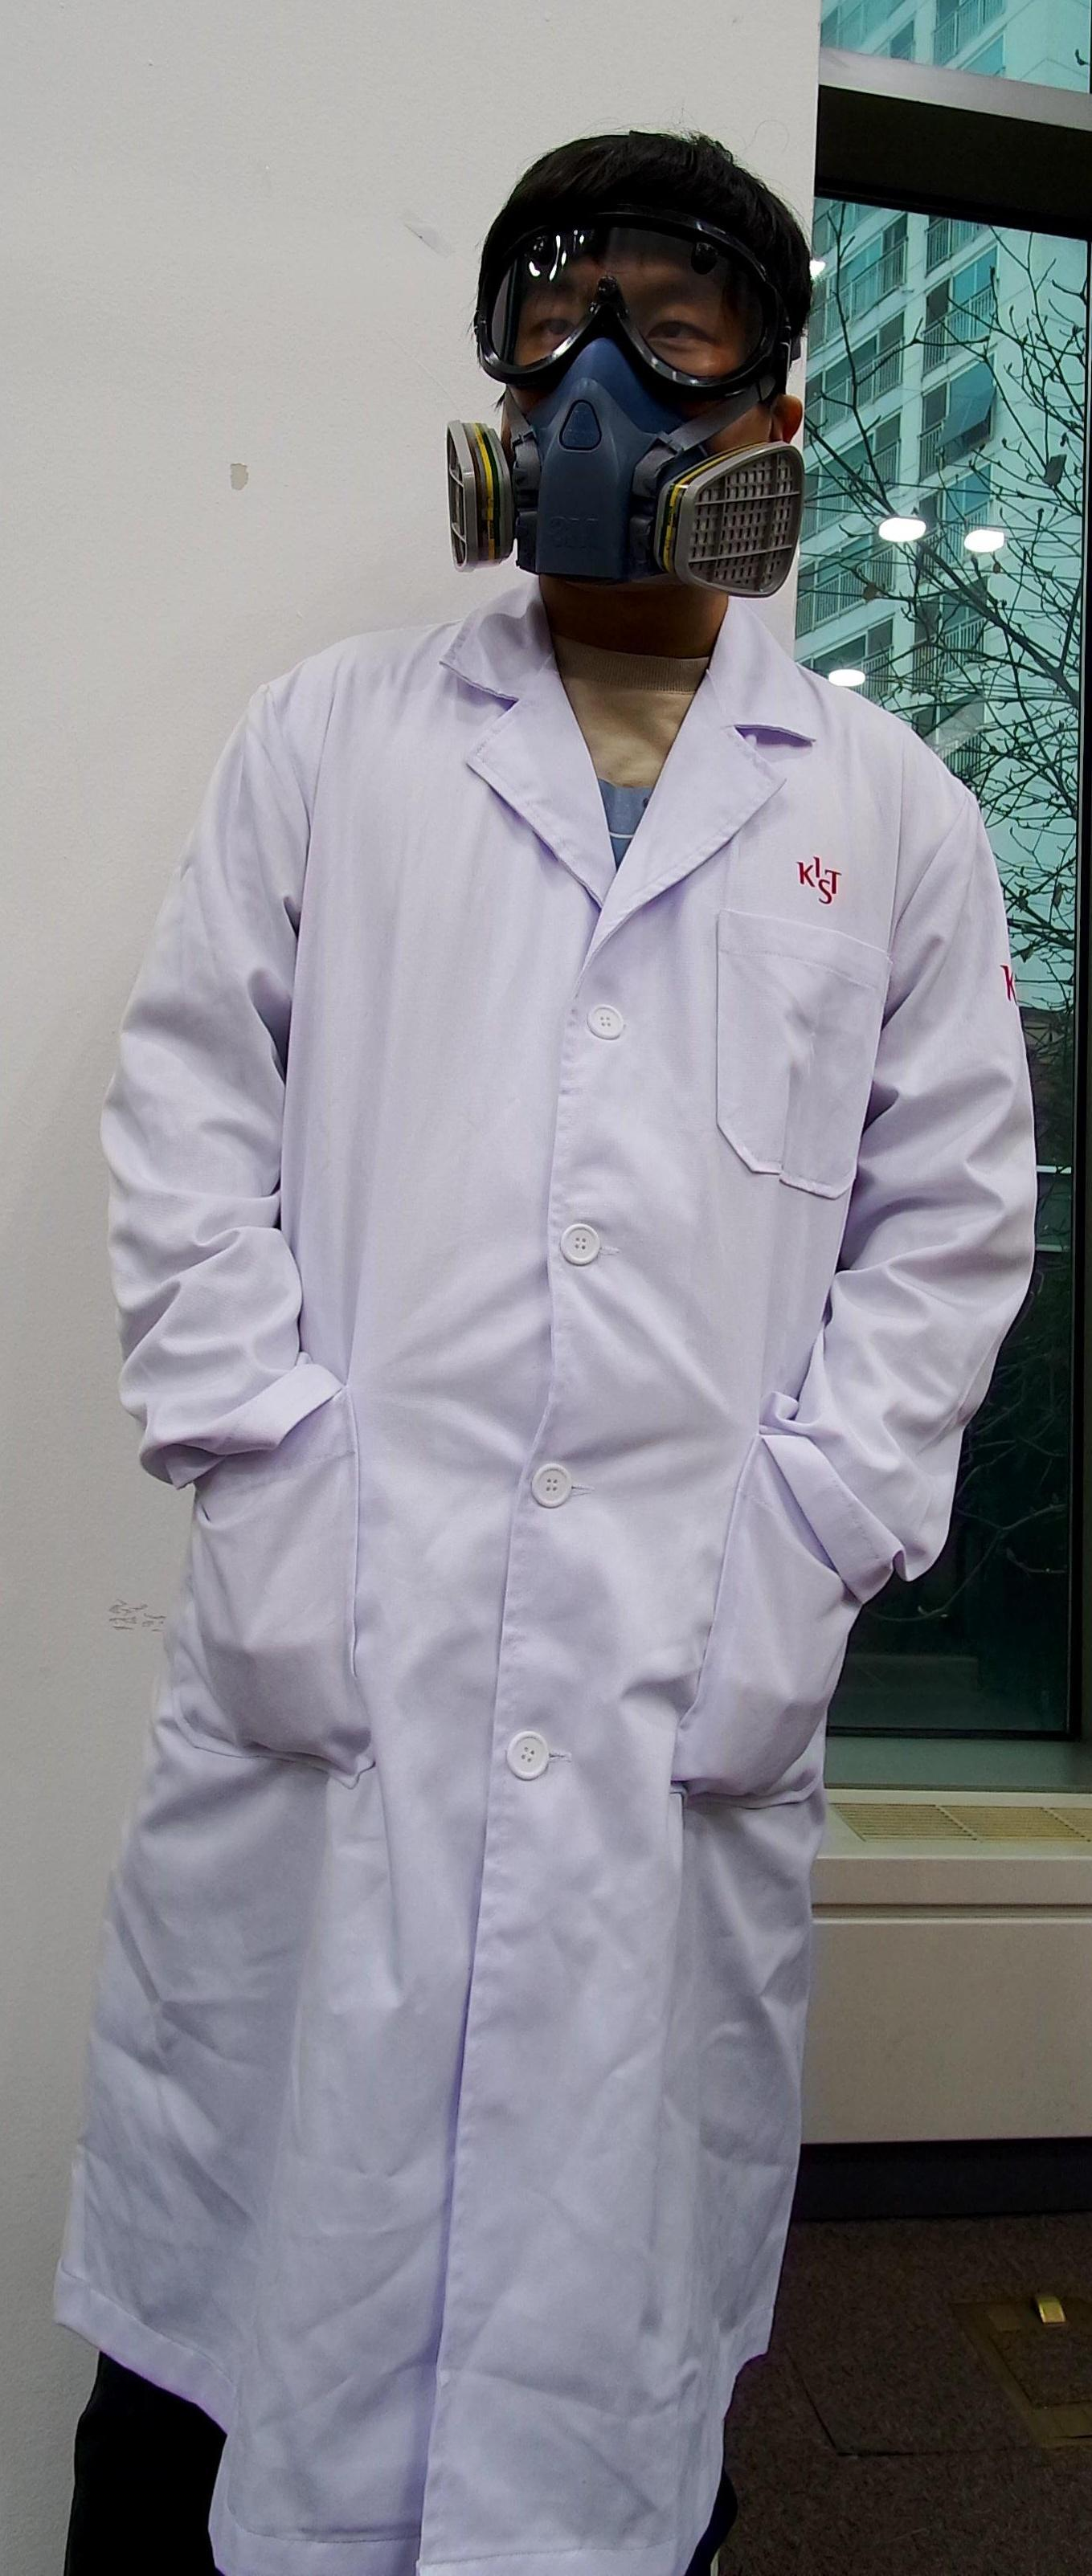lab_coat: (49, 652, 1030, 2568)
